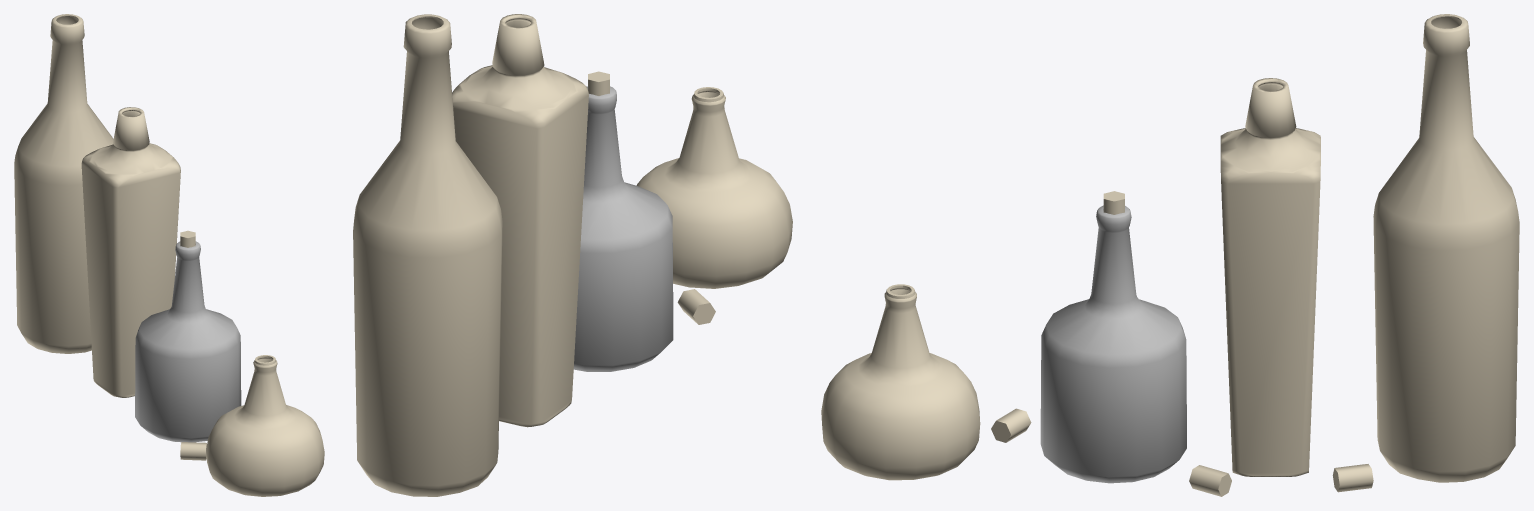
The model's file is all_bottles.fbx.
3 renders of one model, left to right at view 1: azimuth 30°, elevation 25°; view 2: azimuth 150°, elevation 25°; view 3: azimuth 270°, elevation 25°, orthographic. The views are drawn at different scales.
Visible parts, largest first — view 1: rom_02, rom_03, rom_01, rom_04, probka.003; view 2: rom_02, rom_03, rom_01, rom_04, probka.003, probka; view 3: rom_02, rom_03, rom_01, rom_04, probka.001, probka.002, probka.003.
Boxes of the visible parts, x1,y1,x2,y2 form: rom_02: [14, 14, 113, 353]; rom_03: [81, 107, 180, 397]; rom_01: [135, 241, 241, 442]; rom_04: [206, 355, 324, 496]; probka.003: [180, 442, 206, 460]; rom_02: [353, 14, 502, 496]; rom_03: [452, 14, 588, 427]; rom_01: [573, 86, 673, 371]; rom_04: [636, 87, 792, 288]; probka.003: [677, 289, 715, 324]; probka: [588, 71, 609, 95]; rom_02: [1373, 14, 1519, 482]; rom_03: [1220, 78, 1320, 476]; rom_01: [1040, 205, 1186, 483]; rom_04: [821, 284, 980, 480]; probka.001: [1189, 465, 1231, 496]; probka.002: [1332, 464, 1373, 492]; probka.003: [991, 408, 1031, 442].
Bounding box in the file's own units: 13.37 × 35.34 × 51.1.
